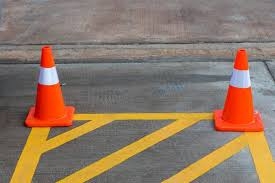cone: (23, 43, 78, 131), (214, 48, 266, 136)
